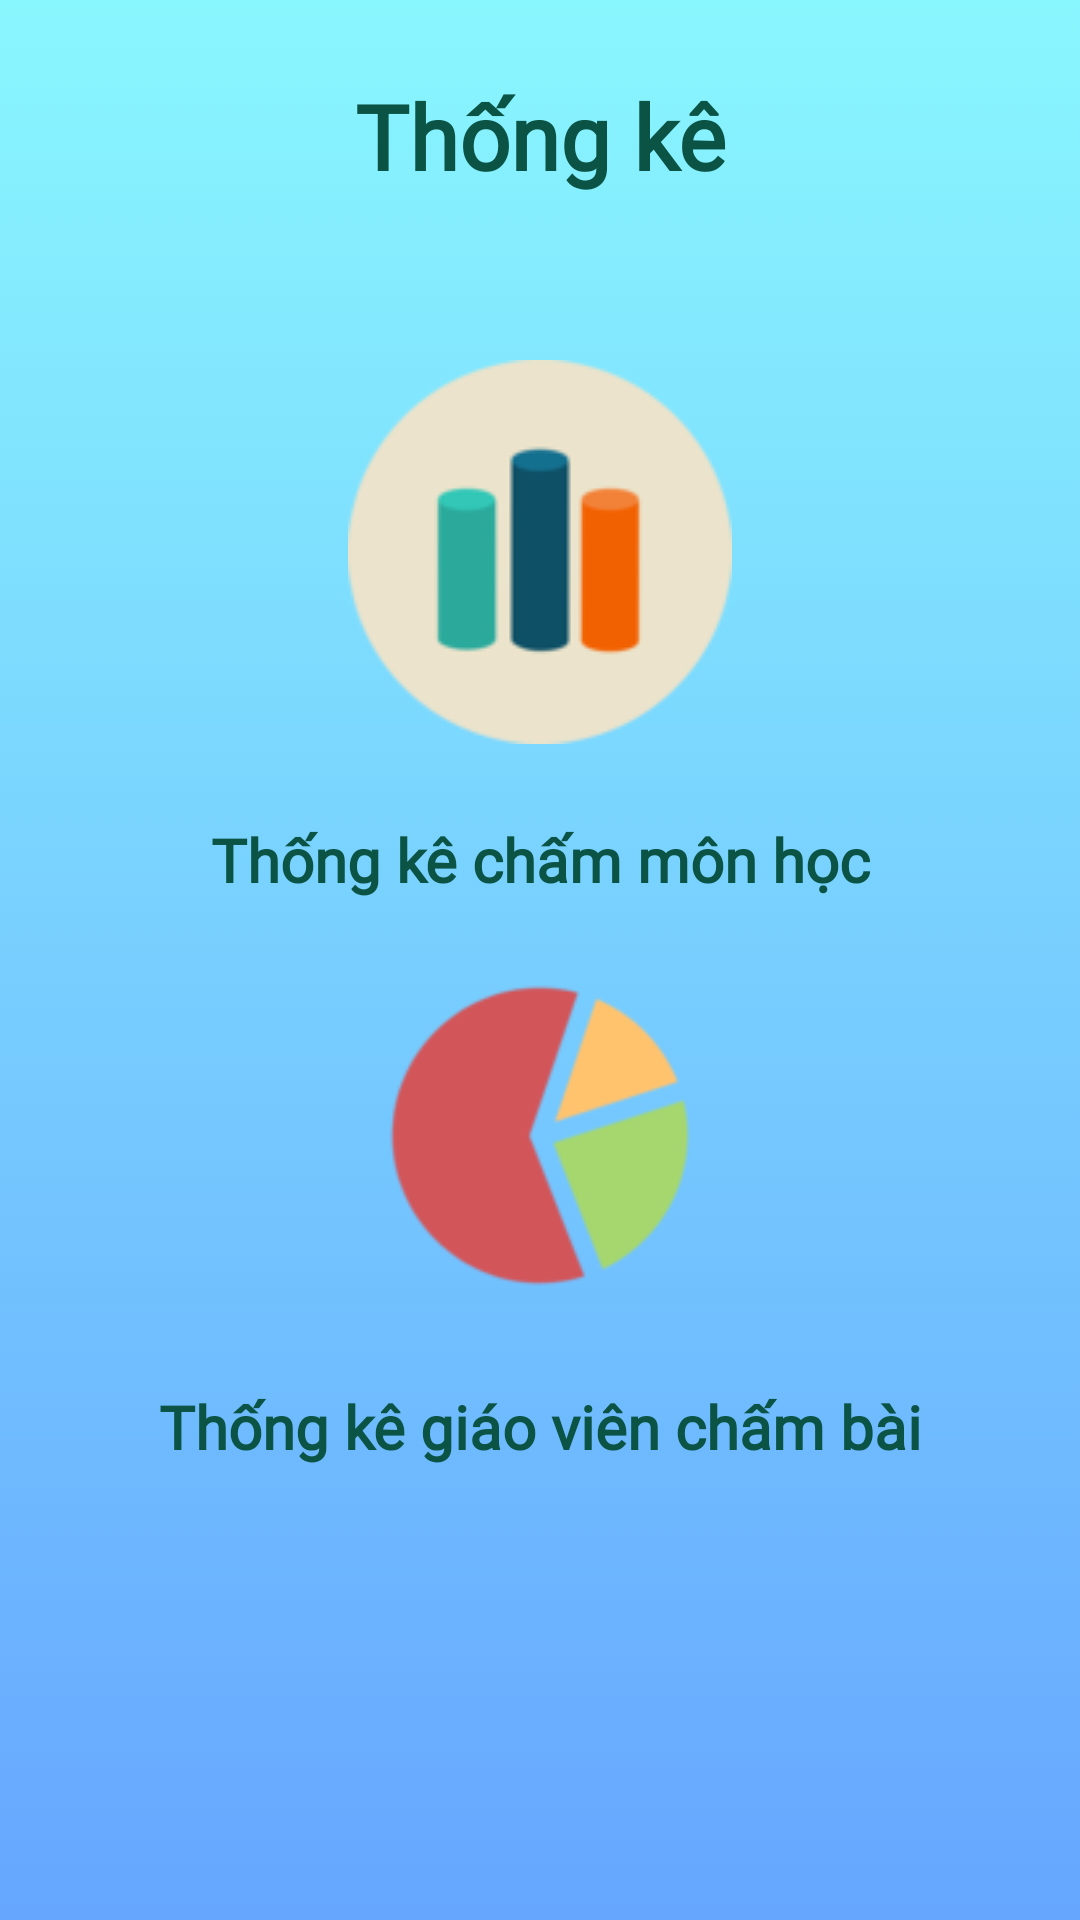

Locate icon controls on the screen. Image size 1080 × 1920, boxes as (x1, y1, x2, y2).
piechart: (390, 986, 689, 1285)
